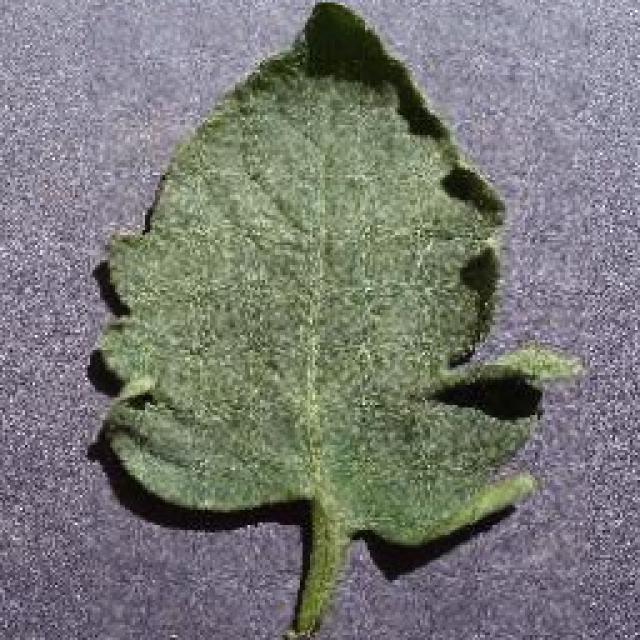Healthy: (88, 2, 590, 640)
